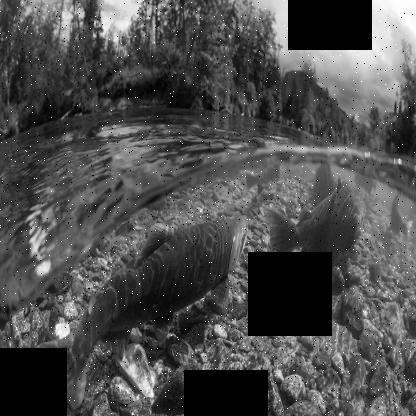fish: (31, 210, 251, 400), (266, 172, 360, 272)
